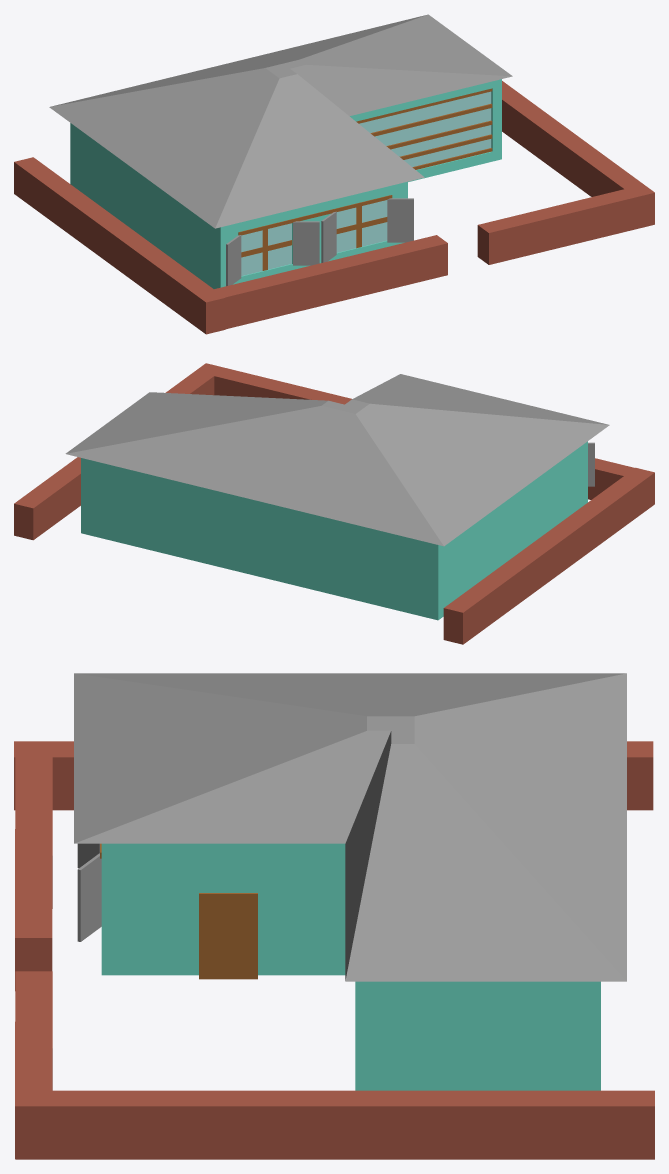
File: Casa.001.glb
The picture shows the model from 3 angles, top to bottom: view 1: azimuth 30°, elevation 25°; view 2: azimuth 150°, elevation 25°; view 3: azimuth 270°, elevation 25°; orthographic projection. The views are drawn at different scales.
Parts seen in each view (by area): view 1: Cube.009; view 2: Cube.009; view 3: Cube.009.
Part boxes in pixels (bbox=[...]): Cube.009: bbox=[14, 14, 654, 334]; Cube.009: bbox=[14, 363, 654, 644]; Cube.009: bbox=[14, 673, 654, 1159].
Bounding box in the file's own units: 29.39 × 8.42 × 21.82.
